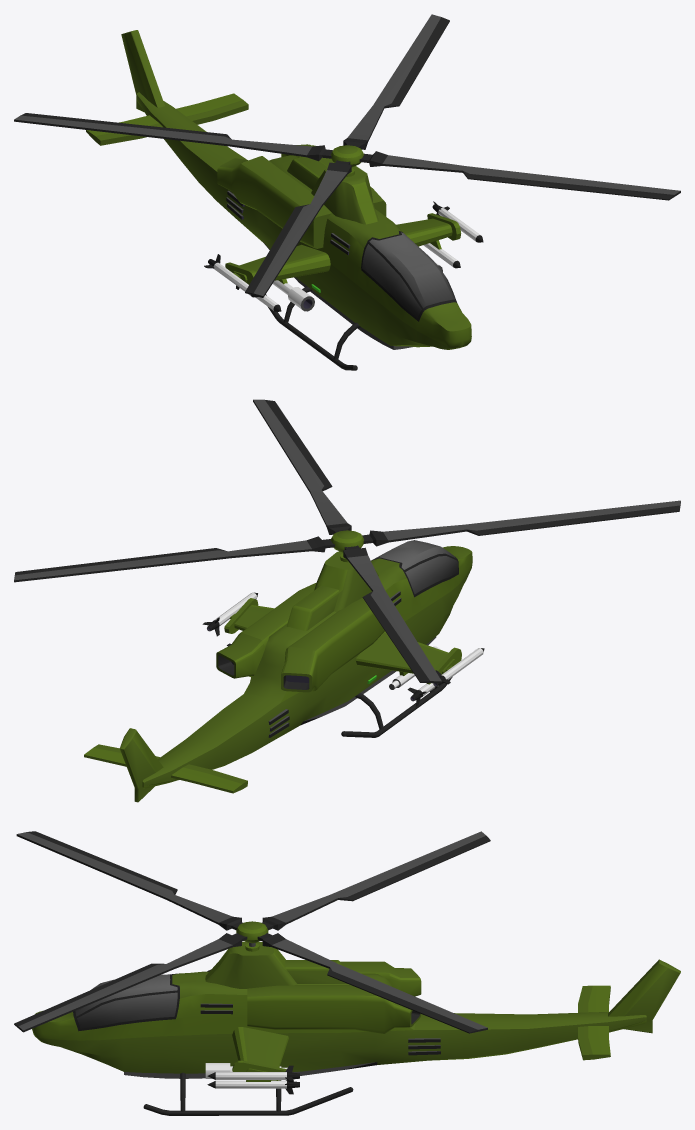
The model's file is Air_Plane_2.fbx.
3 renders of one model, top to bottom at view 1: azimuth 30°, elevation 25°; view 2: azimuth 150°, elevation 25°; view 3: azimuth 270°, elevation 25°, orthographic. The views are drawn at different scales.
Visible parts, largest first — view 1: Air_Plane_2, Air_Plane_2_Wings; view 2: Air_Plane_2, Air_Plane_2_Wings; view 3: Air_Plane_2, Air_Plane_2_Wings.
Part boxes in pixels (x1,y1,x2,y2): Air_Plane_2: (86,30,483,370); Air_Plane_2_Wings: (14,14,680,297); Air_Plane_2: (84,540,484,802); Air_Plane_2_Wings: (14,399,680,683); Air_Plane_2: (32,941,680,1115); Air_Plane_2_Wings: (14,831,490,1033).
Bounding box in the file's own units: 9.97 × 3.89 × 13.95.
